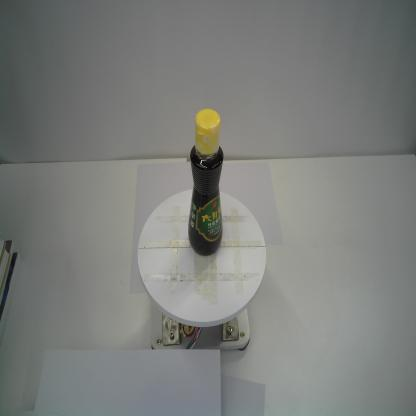Seasoner: (186, 107, 224, 258)
